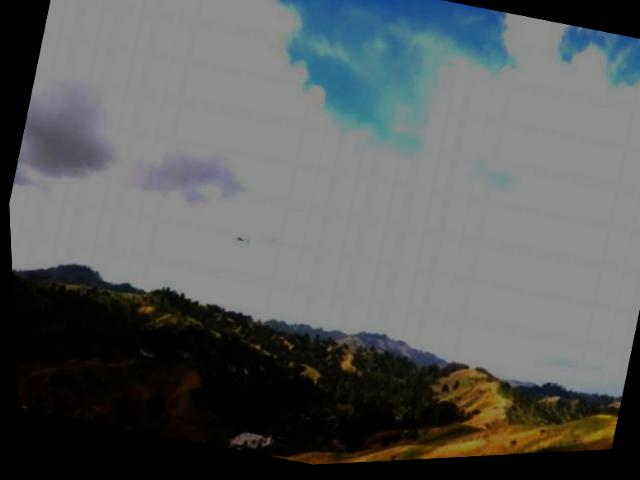iha: (221, 232, 254, 252)
